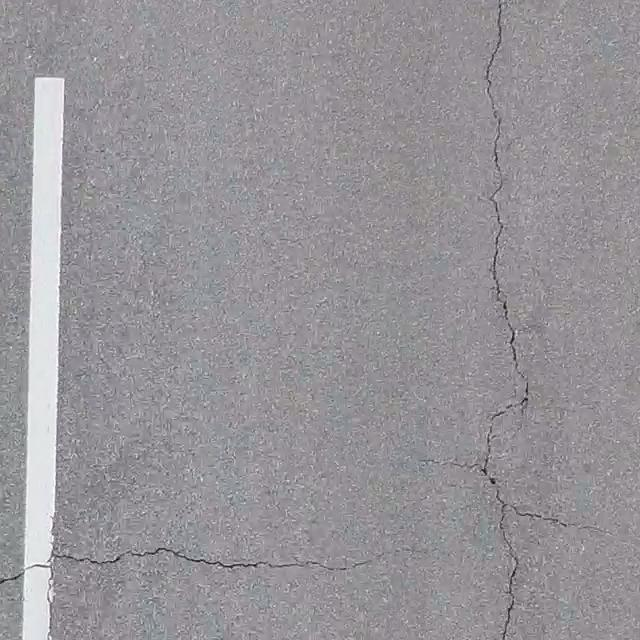GRIETA: (481, 0, 528, 476), (54, 547, 417, 572), (489, 478, 518, 639), (504, 501, 612, 534), (0, 563, 47, 584), (417, 459, 481, 469)
